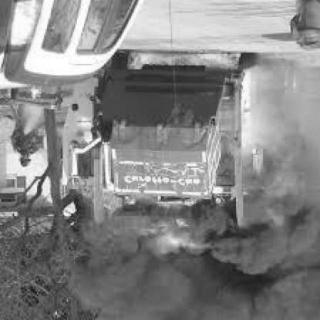Fire: (121, 52, 241, 78), (73, 186, 125, 236), (137, 190, 215, 218), (260, 207, 292, 245), (226, 193, 236, 209)
Smoke: (259, 159, 311, 203)
